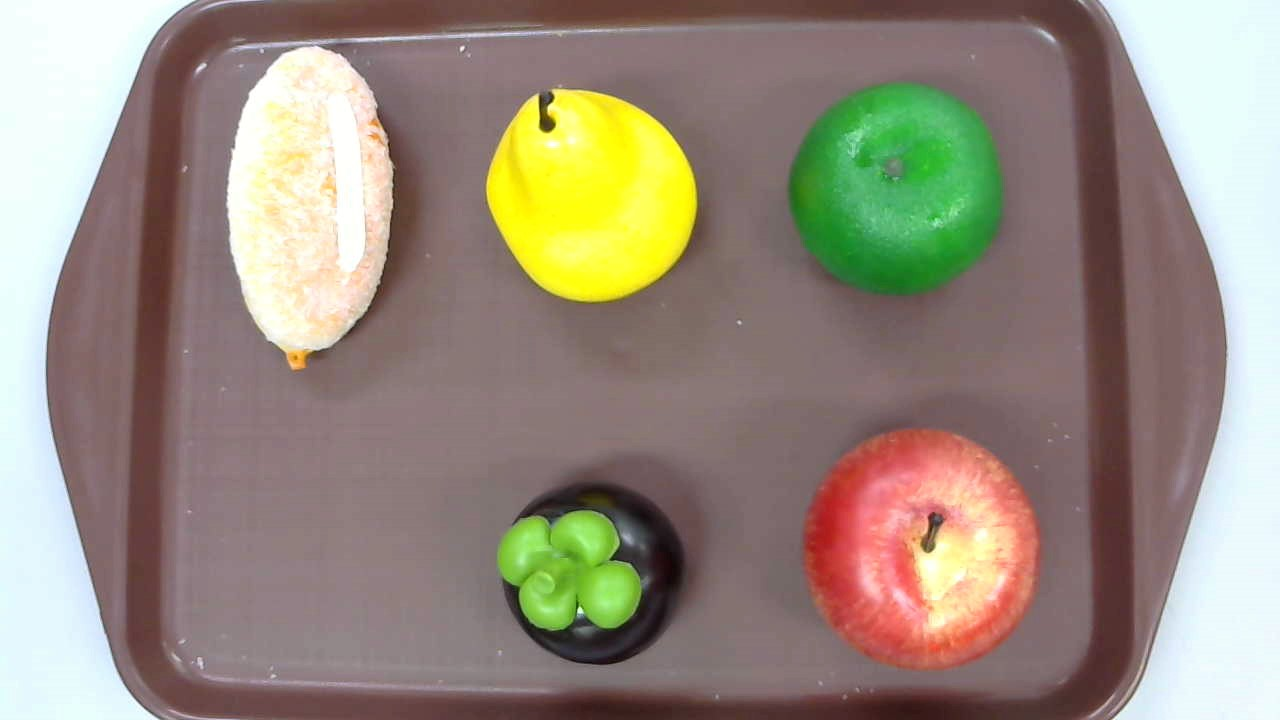coconut: (225, 47, 393, 369)
green orange: (789, 81, 1004, 297)
mangosteen: (496, 483, 686, 667)
red apple: (803, 428, 1041, 674)
yellow pear: (484, 89, 699, 303)
